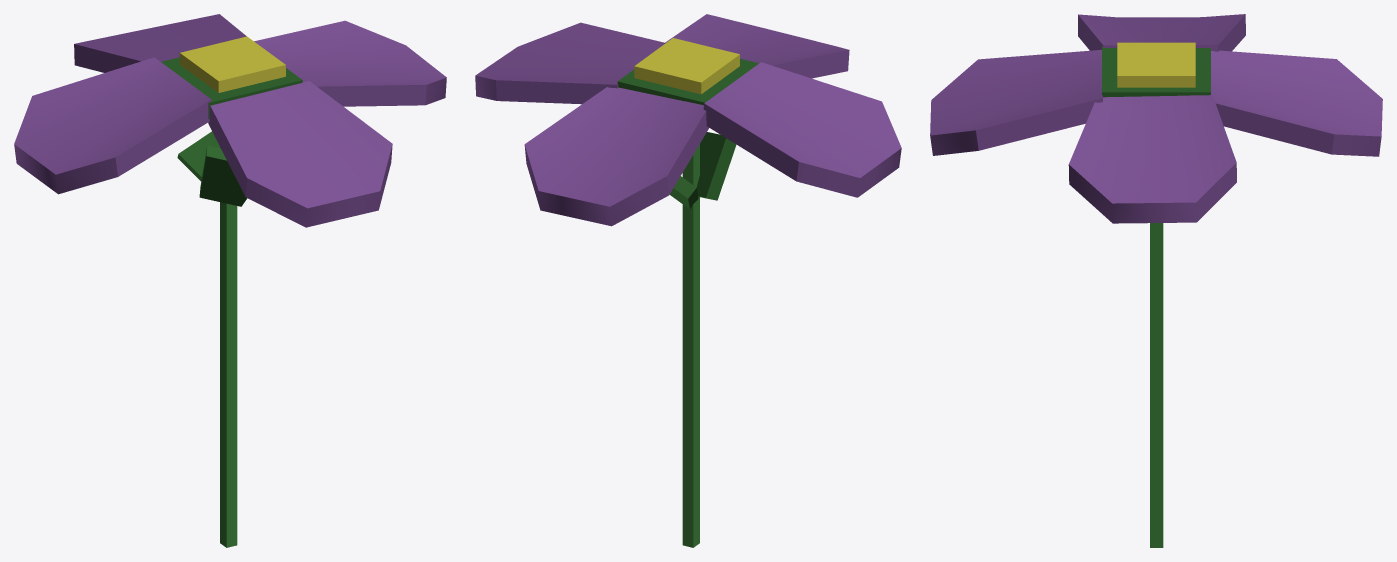
File: Flower05.fbx
3 views of the same model, side by side, from view 1: azimuth 30°, elevation 25°; view 2: azimuth 150°, elevation 25°; view 3: azimuth 270°, elevation 25° (orthographic).
Visible parts, largest first — view 1: PurpleFlower; view 2: PurpleFlower; view 3: PurpleFlower.
Boxes of the visible parts, x1,y1,x2,y2 form: PurpleFlower: (14,14,446,547); PurpleFlower: (475,14,901,547); PurpleFlower: (930,14,1382,547).
Bounding box in the file's own units: 0.1512 × 0.1799 × 0.1513.
